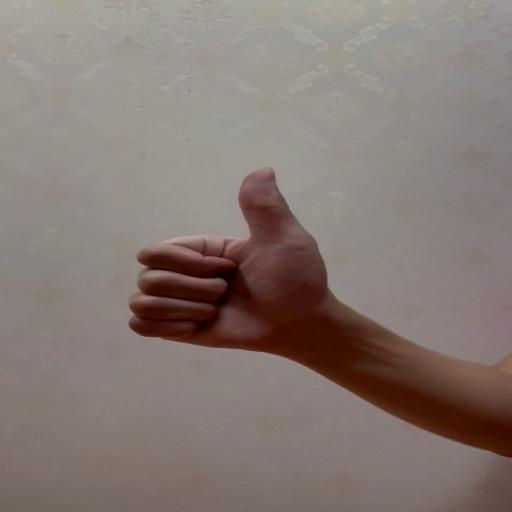thumbs_up: (125, 166, 327, 350)
